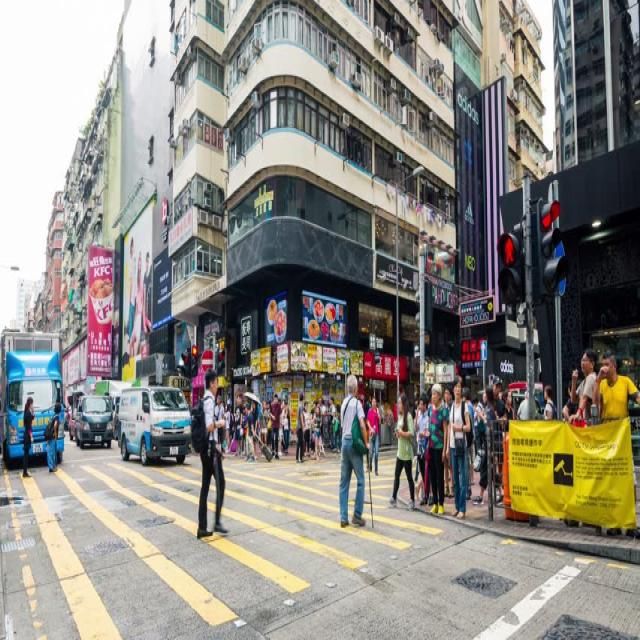body: (591, 347, 640, 540), (189, 367, 230, 540), (339, 374, 371, 530), (444, 373, 474, 520), (122, 232, 154, 364), (471, 386, 503, 510), (424, 380, 451, 516), (482, 375, 510, 504), (387, 395, 416, 513), (567, 348, 598, 427), (412, 382, 452, 427), (413, 392, 431, 485), (499, 388, 544, 425), (461, 387, 476, 488), (42, 402, 62, 474), (441, 387, 454, 497), (362, 394, 397, 434), (365, 395, 381, 477), (308, 396, 327, 460), (22, 396, 35, 479), (268, 391, 283, 460), (471, 392, 483, 475), (295, 391, 307, 464), (229, 404, 246, 455), (561, 379, 581, 421), (232, 392, 243, 459), (244, 400, 256, 461), (259, 398, 271, 458), (213, 393, 226, 447), (280, 397, 292, 455), (301, 399, 312, 457), (325, 394, 336, 449), (543, 384, 559, 421), (332, 402, 342, 454), (251, 400, 259, 461), (223, 402, 231, 454), (413, 455, 421, 484)
